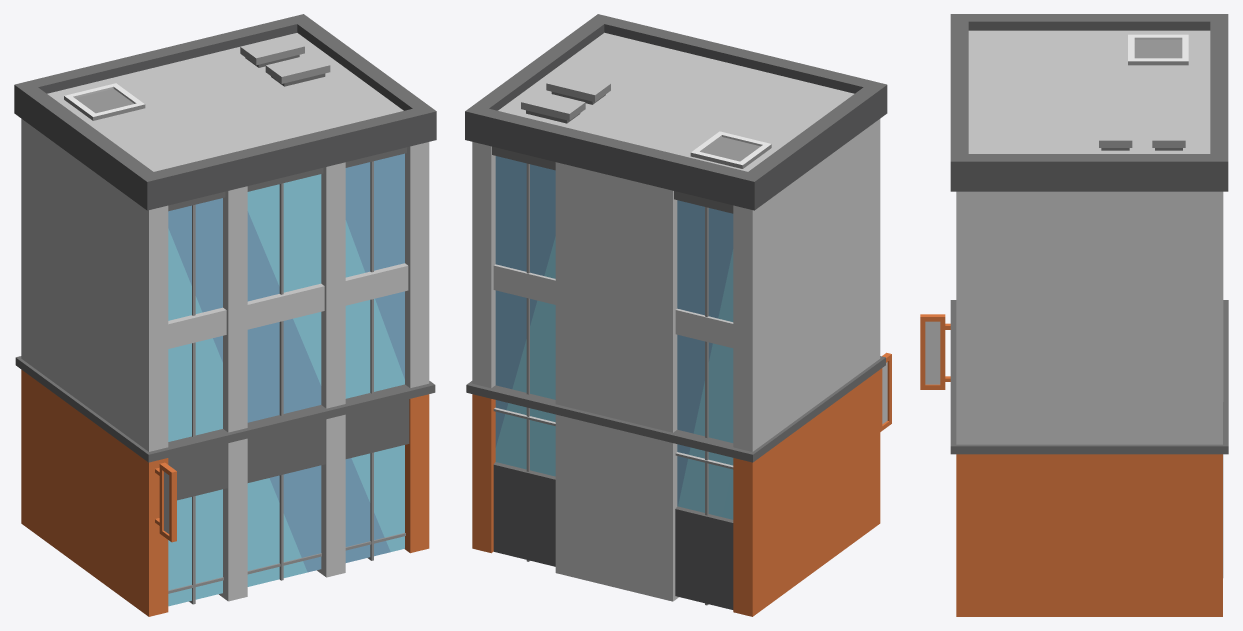
File: building_1_1_1_8.glb
3 views of the same model, side by side, from view 1: azimuth 30°, elevation 25°; view 2: azimuth 150°, elevation 25°; view 3: azimuth 270°, elevation 25° (orthographic). The views are drawn at different scales.
Visible parts, largest first — view 1: building_1_1_1_8; view 2: building_1_1_1_8; view 3: building_1_1_1_8.
Part boxes in pixels (<box>): building_1_1_1_8: <box>14,14,436,616</box>; building_1_1_1_8: <box>465,14,891,616</box>; building_1_1_1_8: <box>920,14,1228,616</box>.
Bounding box in the file's own units: 11.94 × 17.52 × 10.54.
Materials: 1 (1 with a texture image).
